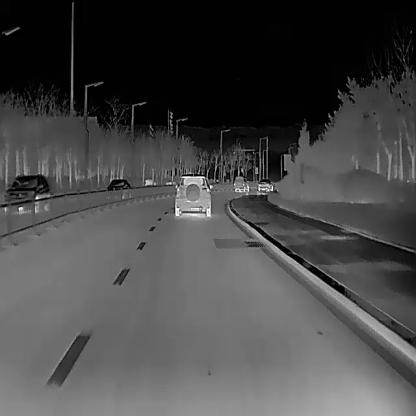car: (2, 173, 51, 215), (174, 173, 213, 215), (106, 179, 132, 197), (257, 178, 273, 190), (144, 178, 156, 188), (165, 180, 176, 184)
truck: (232, 174, 247, 192)
